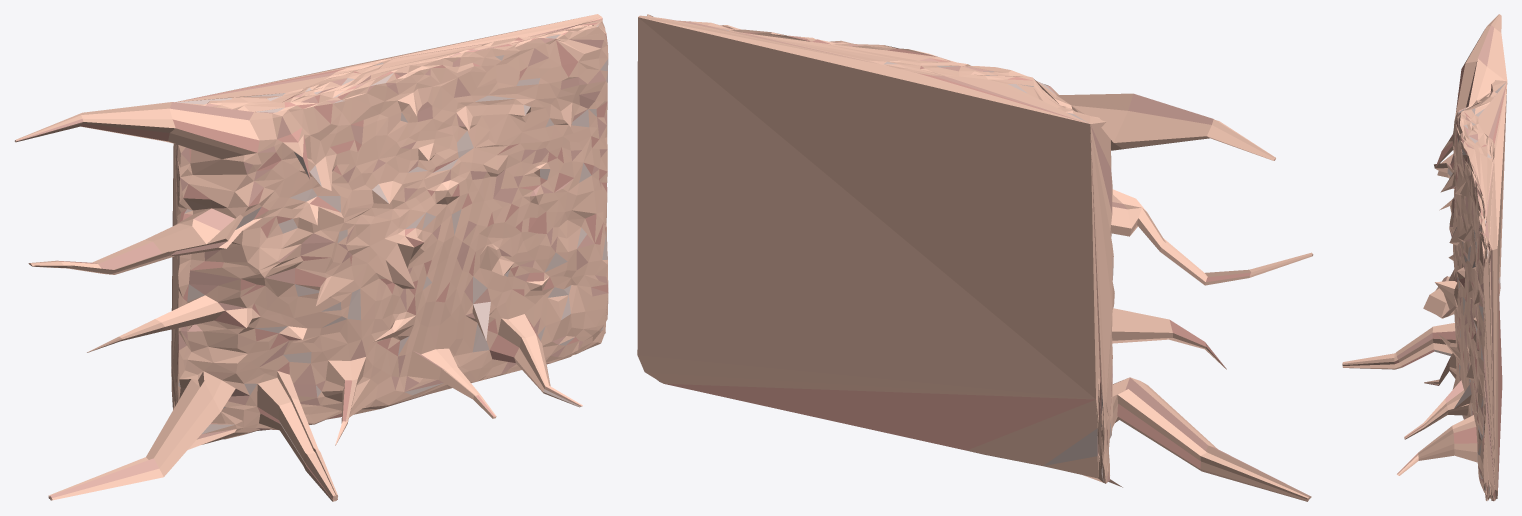
Rendered from Flesh Wall.fbx.
3 views of the same model, side by side, from view 1: azimuth 30°, elevation 25°; view 2: azimuth 150°, elevation 25°; view 3: azimuth 270°, elevation 25° (orthographic). The views are drawn at different scales.
Visible parts, largest first — view 1: Cube; view 2: Cube; view 3: Cube.
Part boxes in pixels (x1,y1,x2,y2): Cube: [14, 14, 608, 501]; Cube: [637, 14, 1313, 501]; Cube: [1342, 14, 1507, 501].
Bounding box in the file's own units: 2042 × 1185 × 626.
